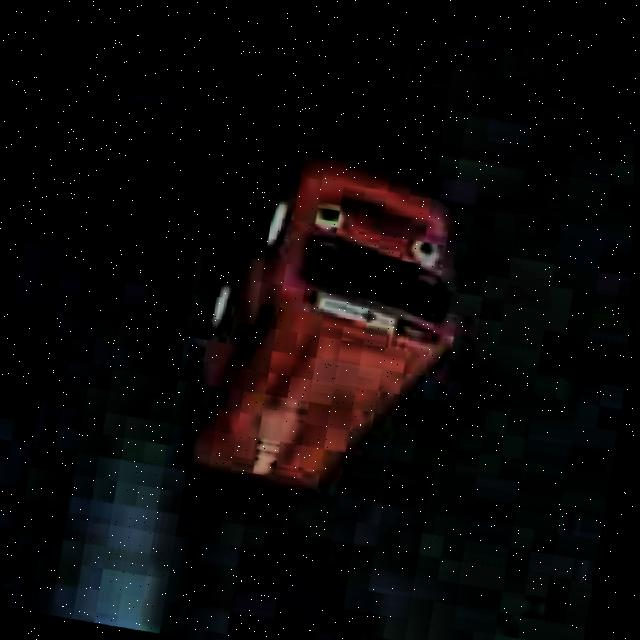bus: (154, 100, 503, 530)
